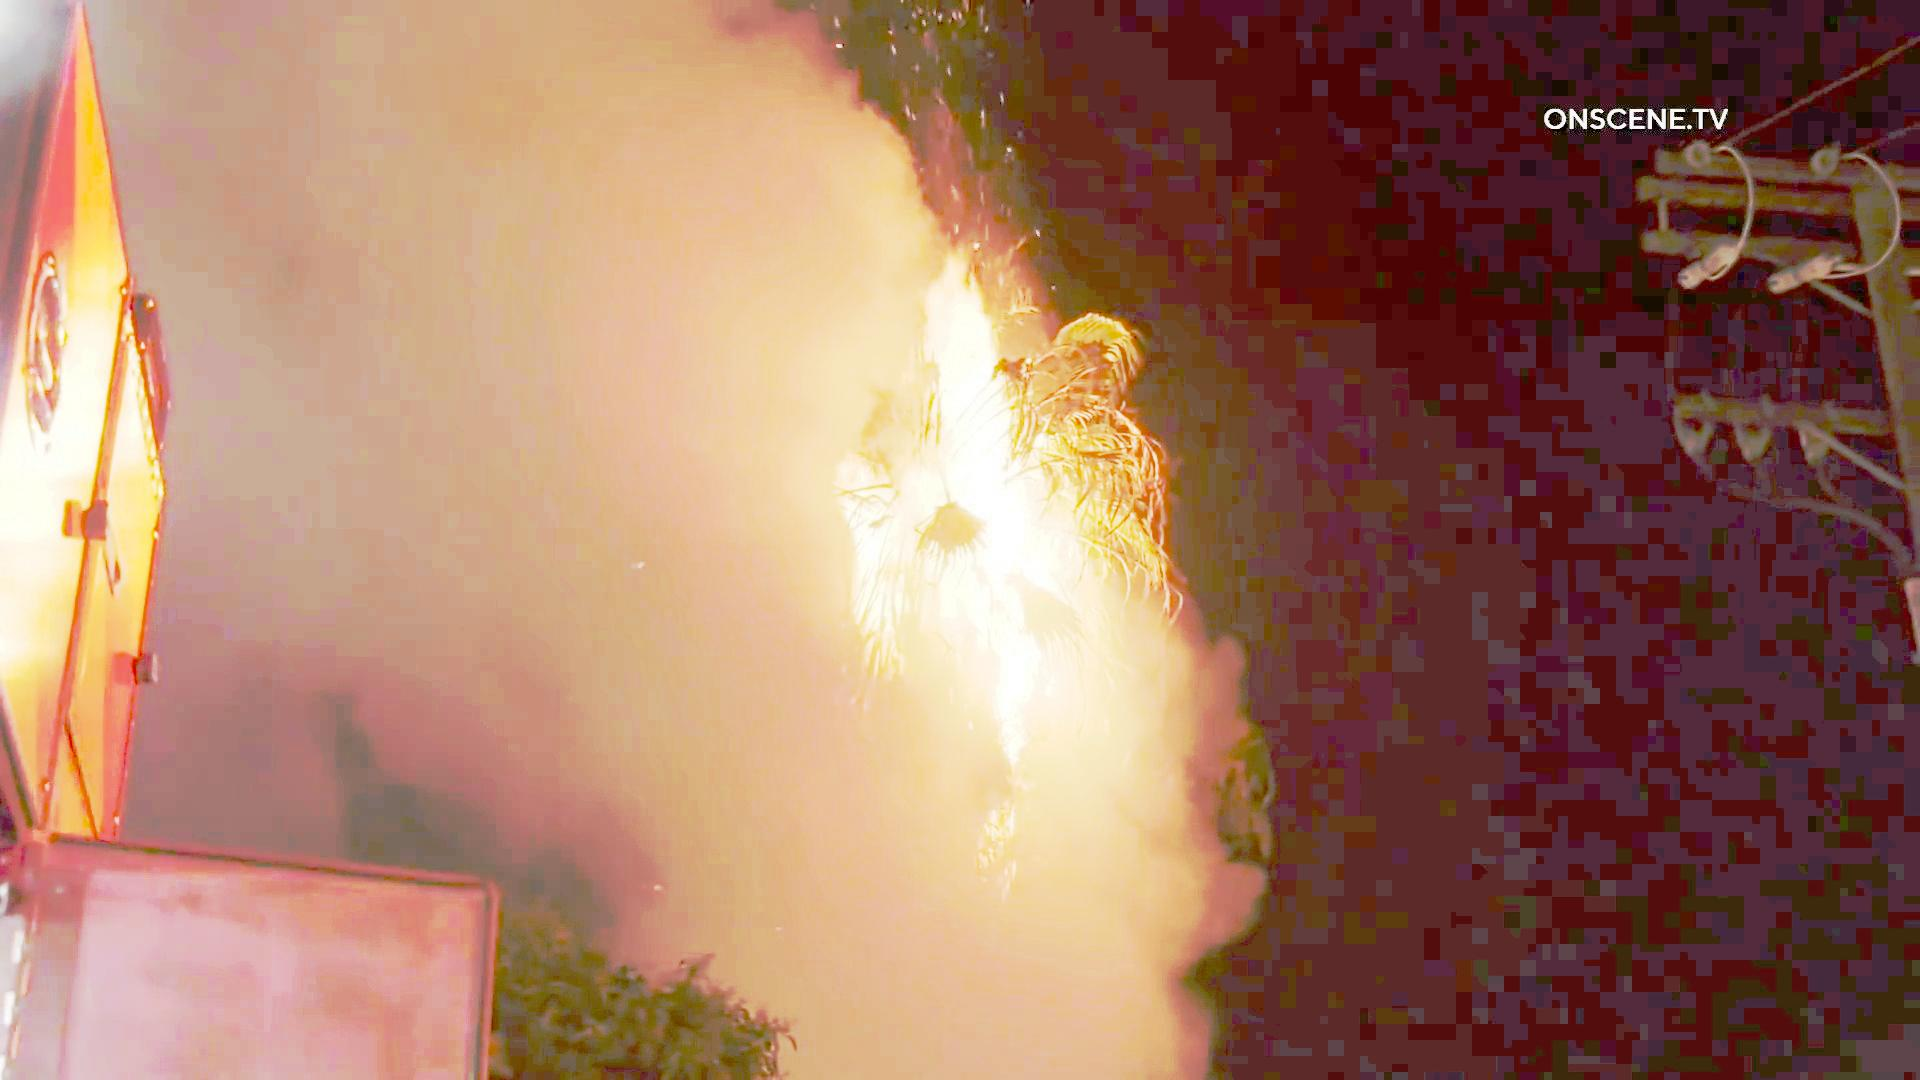fire: (840, 253, 1105, 827)
smoke: (141, 22, 833, 858), (800, 884, 1269, 1080)
